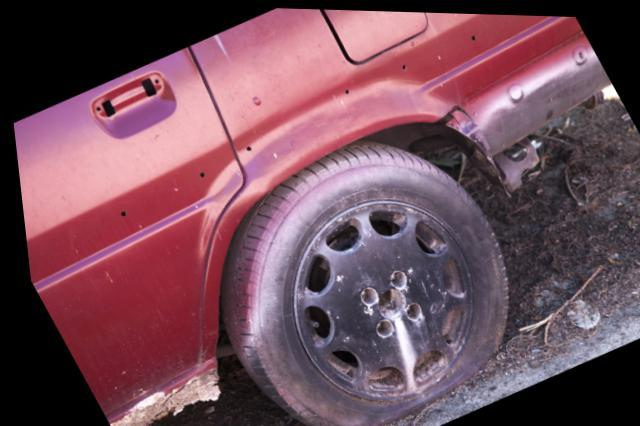tire flat: (214, 138, 502, 426)
